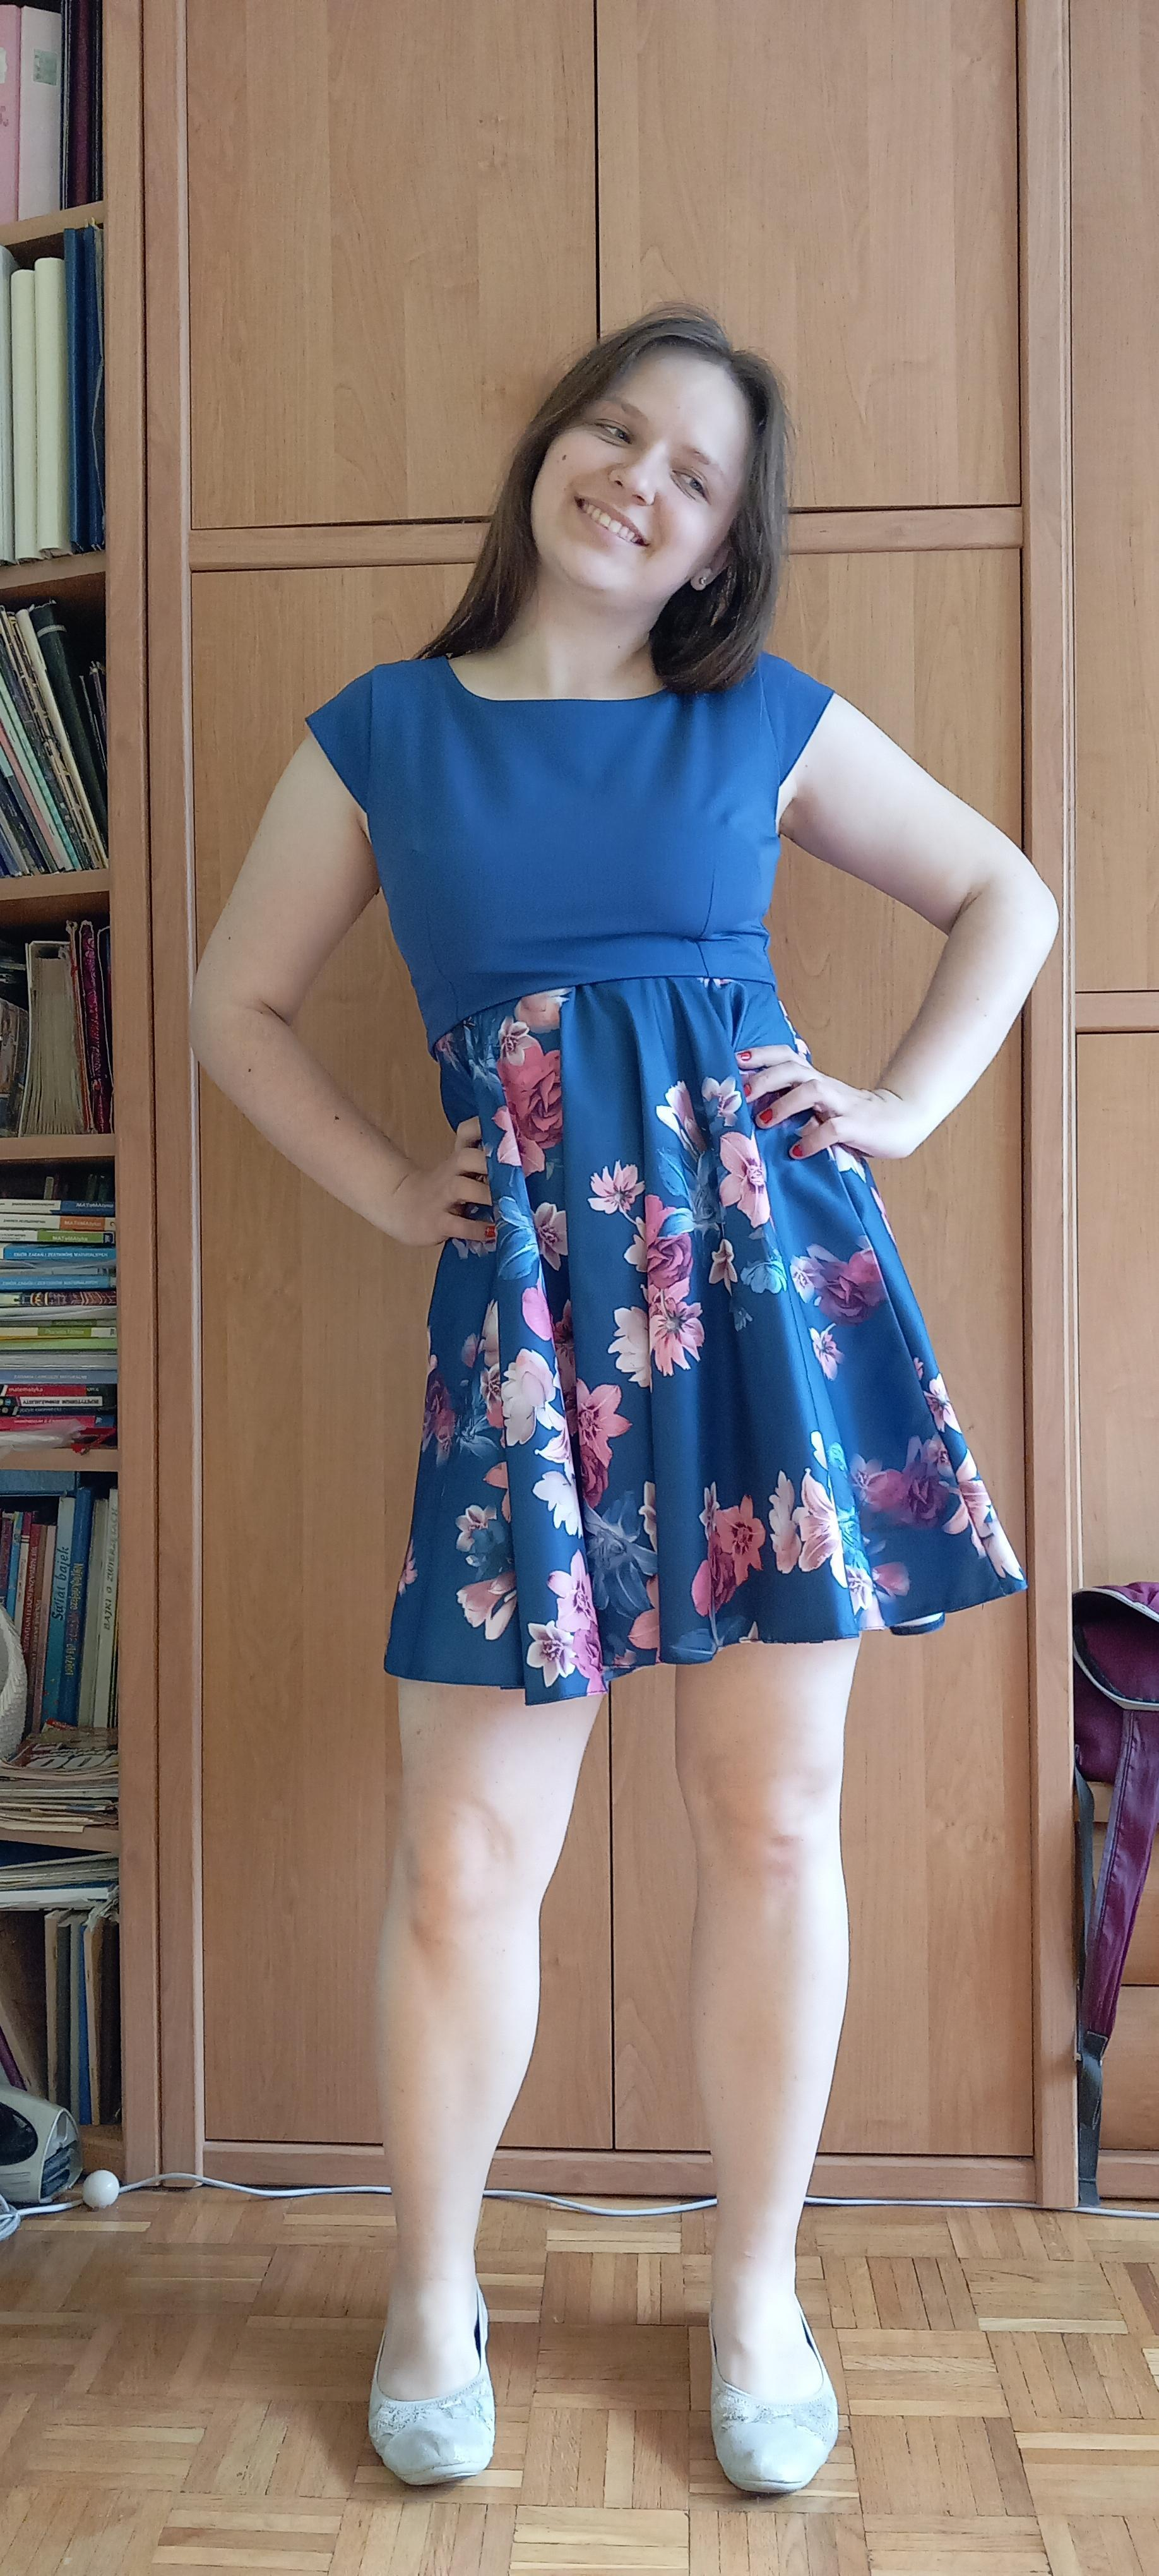dress: (302, 652, 1031, 1709)
